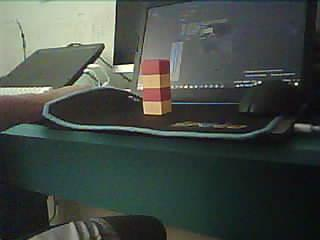lego: (140, 58, 172, 115)
